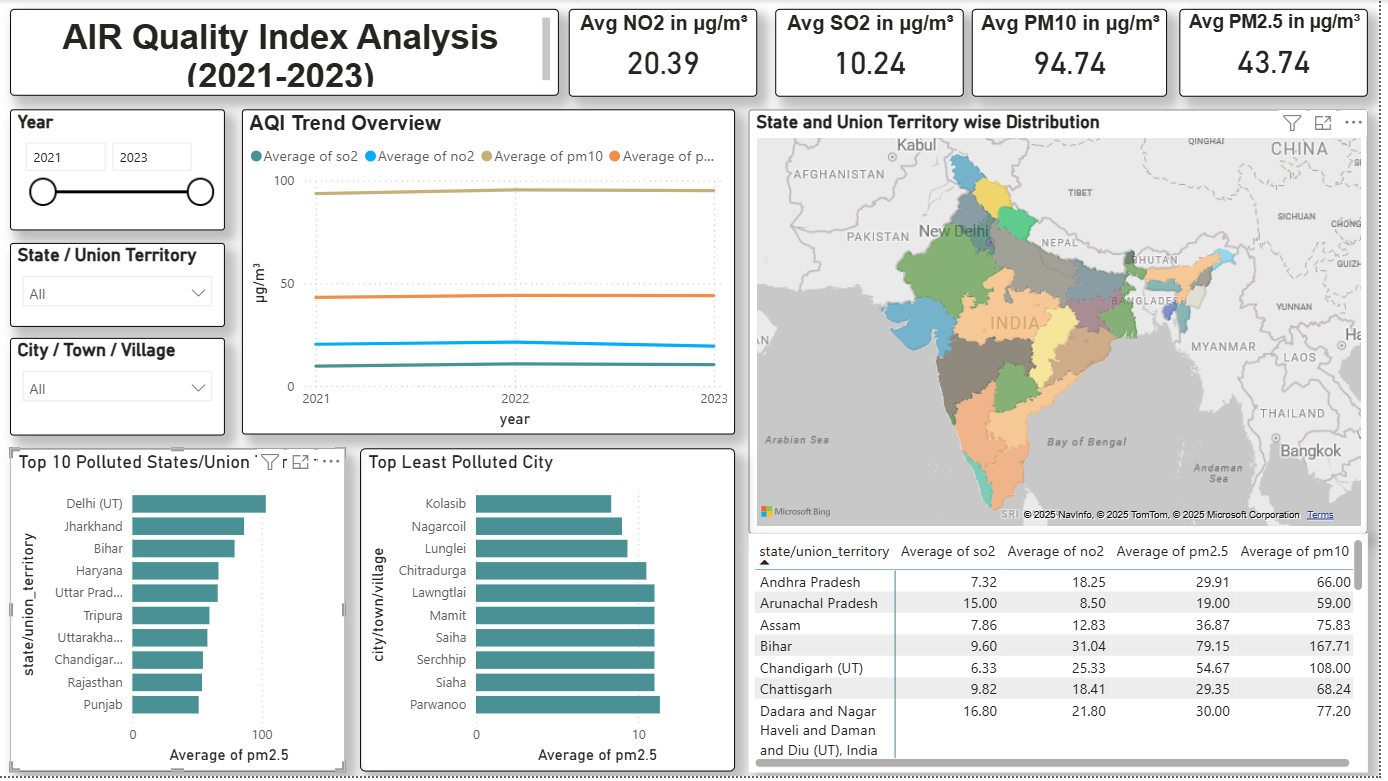

What the dashboard file says about the page in this screenshot:
{"tool":"powerbi","page":{"name":"Page 1","canvas":[1280,720],"ordinal":0},"visuals":[{"type":"textbox","box":[10.2,8.2,508.9,80.9],"z":0},{"type":"card","title":"Avg NO2 in µg/m³","fields":{"Values":["Avg(clean_aqi_dataset.no2)"]},"box":[528.4,7.9,174.6,81.1],"z":1},{"type":"card","title":"Avg SO2 in µg/m³","fields":{"Values":["Avg(clean_aqi_dataset.so2)"]},"box":[719.9,7.9,174.6,81.1],"z":2},{"type":"card","title":"Avg PM10 in µg/m³","fields":{"Values":["Avg(clean_aqi_dataset.pm10)"]},"box":[902.4,7.9,181.4,81.1],"z":3},{"type":"card","title":"Avg PM2.5 in µg/m³","fields":{"Values":["Avg(clean_aqi_dataset.pm2.5)"]},"box":[1095.1,7.9,174.6,81.1],"z":4},{"type":"slicer","title":"Year","fields":{"Values":["clean_aqi_dataset.year"]},"box":[10.1,101.4,199.4,112.7],"z":5},{"type":"slicer","title":"State / Union Territory","fields":{"Values":["clean_aqi_dataset.state/union_territory"]},"box":[10.1,225.3,199.4,77.7],"z":6},{"type":"slicer","title":"City / Town / Village","fields":{"Values":["clean_aqi_dataset.city/town/village"]},"box":[10.1,313.2,199.4,90.1],"z":7},{"type":"lineChart","title":"AQI Trend Overview ","fields":{"Category":["clean_aqi_dataset.year"],"Y":["Avg(clean_aqi_dataset.so2)","Avg(clean_aqi_dataset.no2)","Avg(clean_aqi_dataset.pm10)","Avg(clean_aqi_dataset.pm2.5)"]},"box":[225.3,101.4,457.4,301.9],"z":8},{"type":"filledMap","title":"State and Union Territory wise Distribution","fields":{"Category":["clean_aqi_dataset.state/union_territory"],"Series":["clean_aqi_dataset.pm2.5"]},"box":[695.1,101.4,574.6,394.3],"z":9},{"type":"barChart","title":"Top 10 Polluted States/Union Territory","fields":{"Category":["clean_aqi_dataset.state/union_territory"],"Y":["Avg(clean_aqi_dataset.pm2.5)"]},"box":[10.1,415.7,310.9,299.7],"z":10},{"type":"barChart","title":"Top Least Polluted City","fields":{"Y":["Avg(clean_aqi_dataset.pm2.5)"],"Category":["clean_aqi_dataset.city/town/village"]},"box":[334.6,415.7,348.1,299.7],"z":11},{"type":"pivotTable","fields":{"Rows":["clean_aqi_dataset.state/union_territory"],"Values":["Avg(clean_aqi_dataset.so2)","Avg(clean_aqi_dataset.no2)","Avg(clean_aqi_dataset.pm2.5)","Avg(clean_aqi_dataset.pm10)"]},"box":[695.1,494.6,574.6,221.9],"z":12}]}

Visuals, with their boxes in screenshot pixels (x1, y1, x2, y2), scaled from the page's 1280x720 canvas onto the 1388x781 screenshot:
textbox: locate(11, 9, 563, 97)
"Avg NO2 in µg/m³" card: locate(573, 9, 762, 97)
"Avg SO2 in µg/m³" card: locate(781, 9, 970, 97)
"Avg PM10 in µg/m³" card: locate(979, 9, 1175, 97)
"Avg PM2.5 in µg/m³" card: locate(1187, 9, 1377, 97)
"Year" slicer: locate(11, 110, 227, 232)
"State / Union Territory" slicer: locate(11, 244, 227, 329)
"City / Town / Village" slicer: locate(11, 340, 227, 437)
"AQI Trend Overview " lineChart: locate(244, 110, 740, 437)
"State and Union Territory wise Distribution" filledMap: locate(754, 110, 1377, 538)
"Top 10 Polluted States/Union Territory" barChart: locate(11, 451, 348, 776)
"Top Least Polluted City" barChart: locate(363, 451, 740, 776)
pivotTable - clean_aqi_dataset.state/union_territory x Avg(clean_aqi_dataset.so2): locate(754, 537, 1377, 777)
